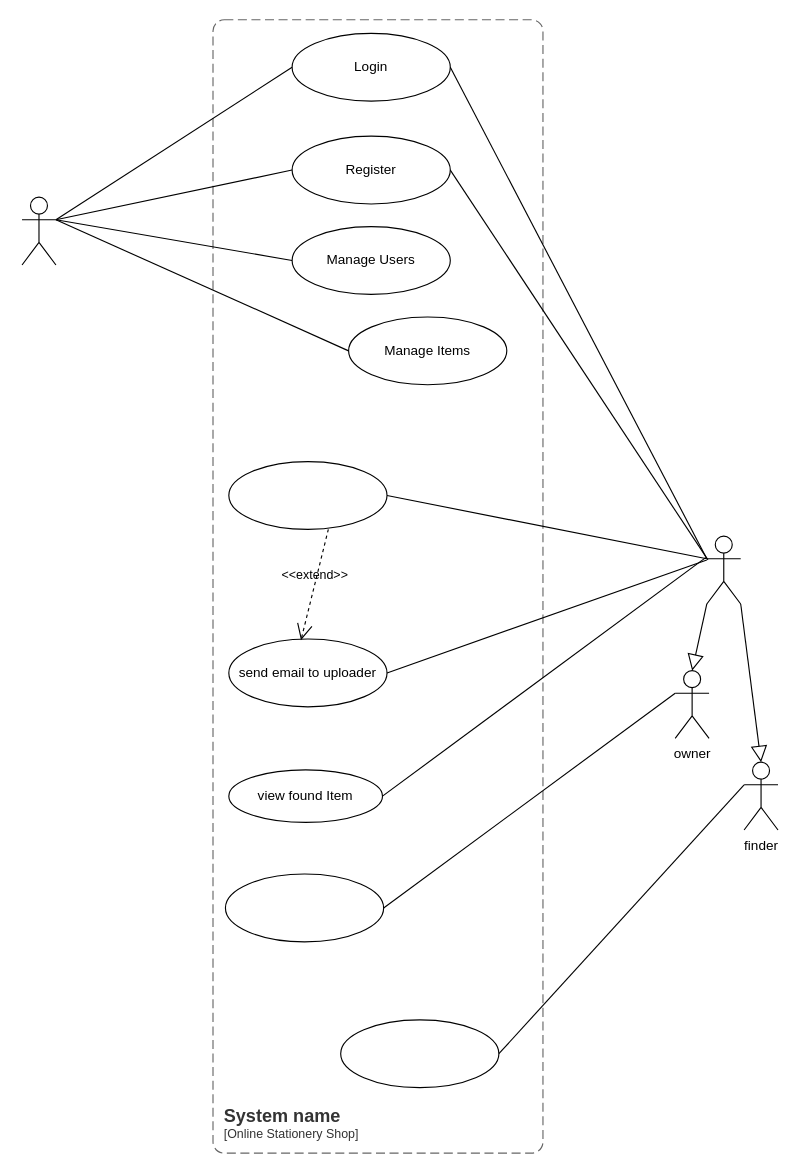
This 798x1173 diagram has some shape labels left out. Each missing label, with the box of its shape:
Admin: (21, 196, 56, 265)
repost found item: (340, 1019, 499, 1088)
repost lost item: (224, 873, 384, 942)
User: (706, 535, 741, 604)
View lost Item: (228, 460, 387, 529)
